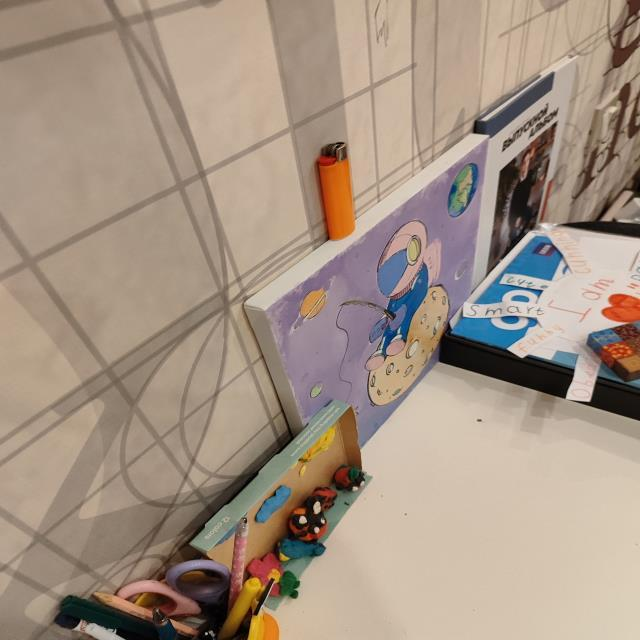lighter: (316, 143, 354, 240)
